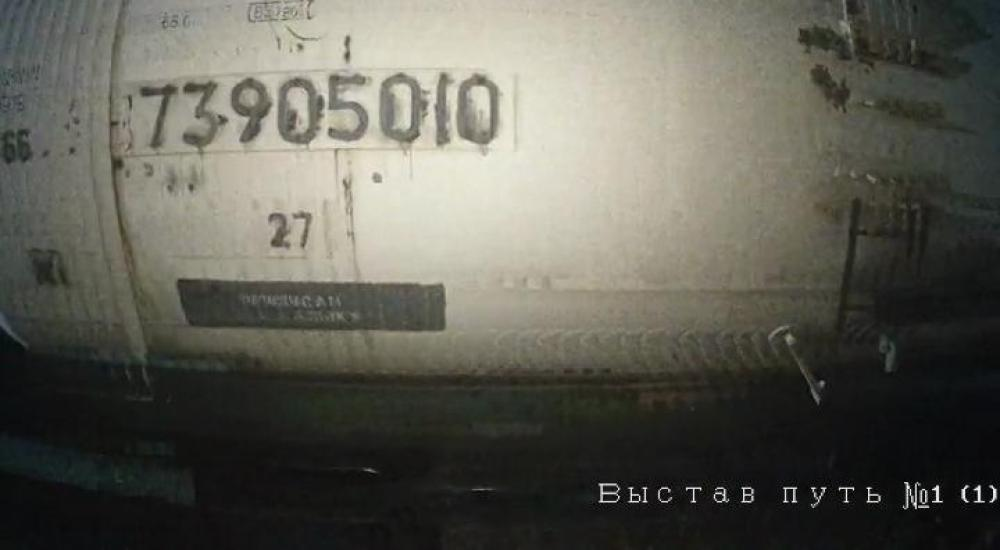Wagon-number: (134, 69, 507, 158)
